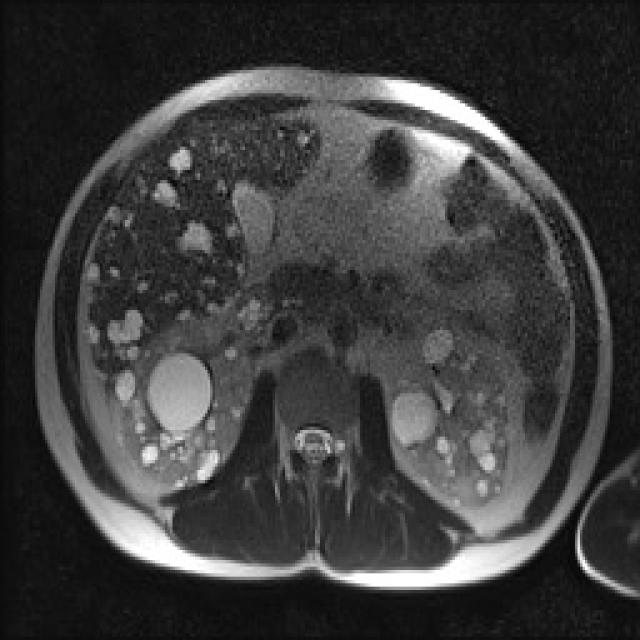sag: (112, 310, 260, 487)
sol: (387, 326, 513, 509)
